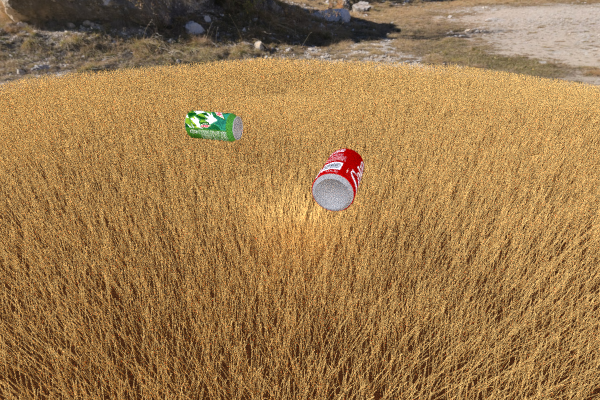bottle: (268, 84, 357, 131)
can: (311, 148, 364, 211), (184, 110, 242, 141)
